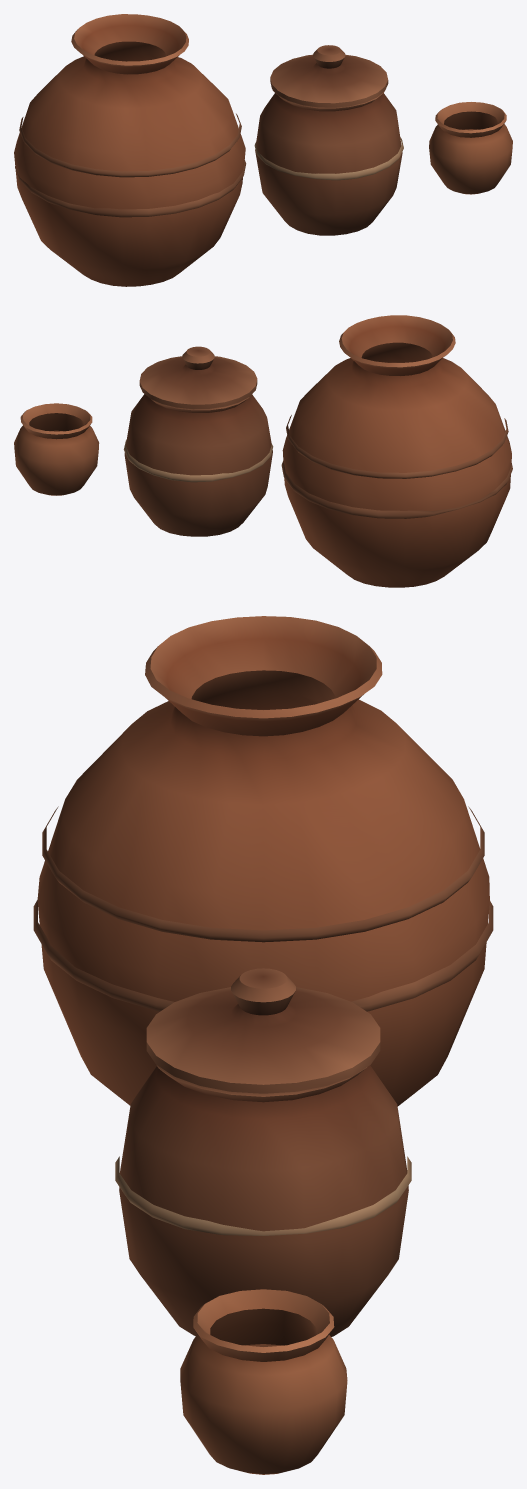
Rendered from pottery.85a6c3c2.glb.
3 views of the same model, one above another, from view 1: azimuth 30°, elevation 25°; view 2: azimuth 150°, elevation 25°; view 3: azimuth 270°, elevation 25° (orthographic). The views are drawn at different scales.
Parts seen in each view (by area): view 1: pot_large, pot_medium, pot_small; view 2: pot_large, pot_medium, pot_small; view 3: pot_large, pot_medium, pot_small.
Part boxes in pixels (box(x1,y1,x2,y2)): pot_large: box(14, 14, 246, 286); pot_medium: box(254, 45, 403, 235); pot_small: box(429, 102, 512, 194); pot_large: box(281, 315, 512, 587); pot_medium: box(123, 346, 273, 536); pot_small: box(14, 403, 99, 495); pot_large: box(33, 616, 493, 1106); pot_medium: box(115, 968, 411, 1336); pot_small: box(180, 1289, 347, 1474).
Size of the model in its own units: 1.01 by 0.468 by 0.4209.
